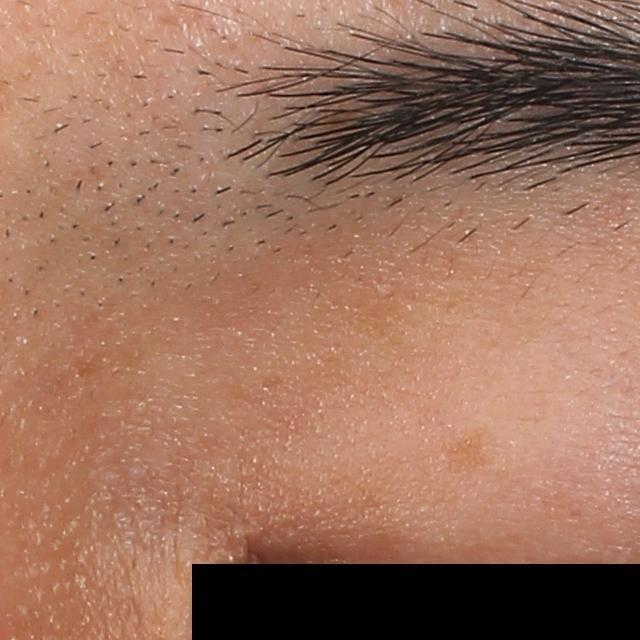melasma: (445, 425, 498, 480)
